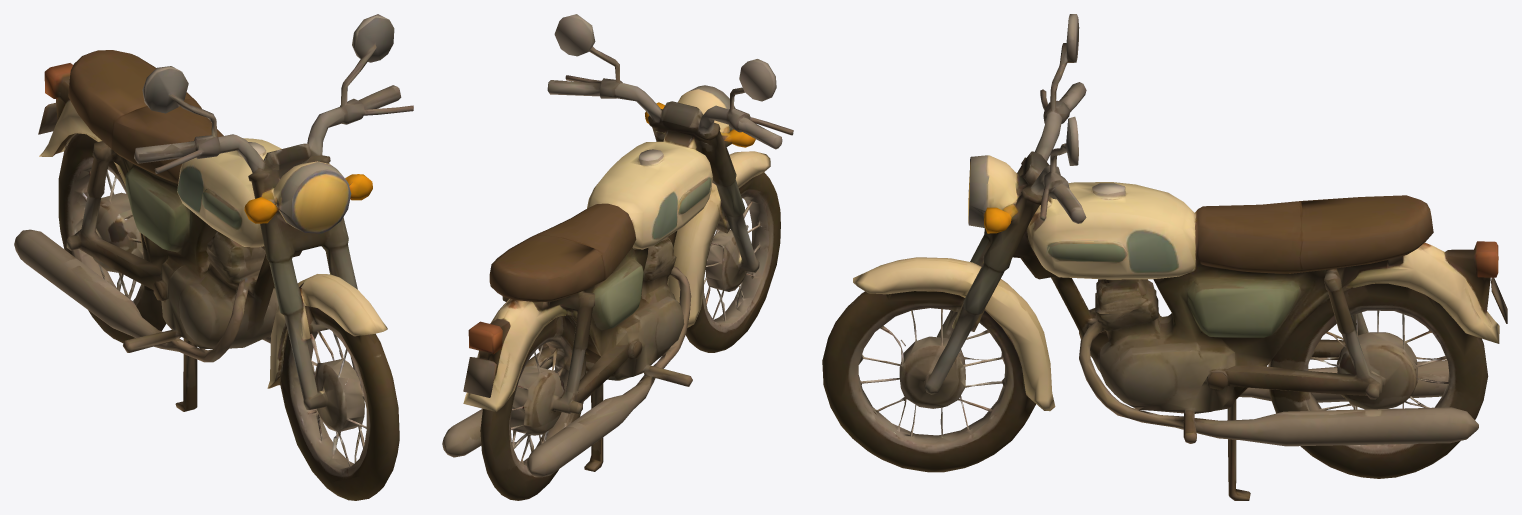
The picture shows the model from 3 angles, left to right: view 1: azimuth 30°, elevation 25°; view 2: azimuth 150°, elevation 25°; view 3: azimuth 270°, elevation 25°; orthographic projection. The views are drawn at different scales.
Parts seen in each view (by area): view 1: model_LOD4; view 2: model_LOD4; view 3: model_LOD4.
Part boxes in pixels (x1,y1,x2,y2): model_LOD4: [14, 14, 413, 500]; model_LOD4: [442, 14, 793, 500]; model_LOD4: [822, 14, 1507, 500].
Size of the model in its own units: 0.8507 by 1.32 by 1.9.
1 material, 1 textured.
